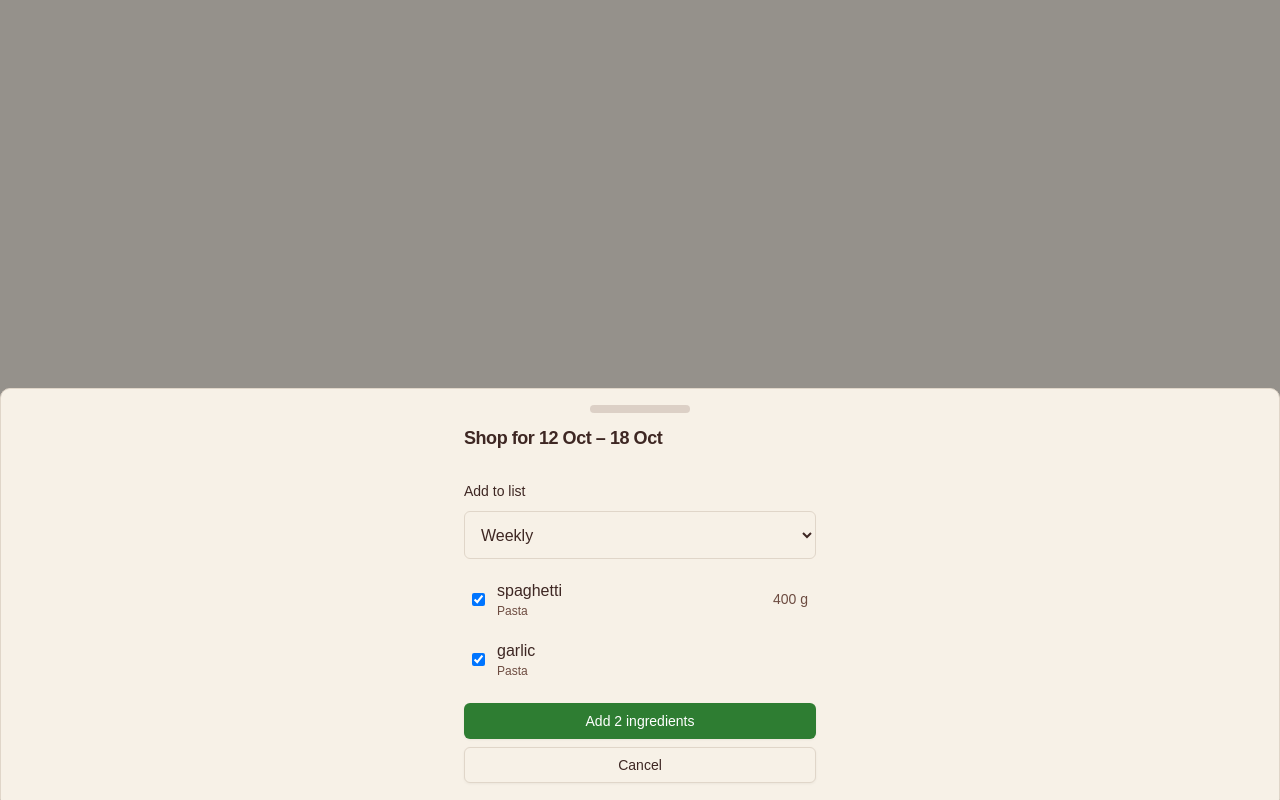
Test: ShoppingPreviewDrawer › keeps the drawer open and shows the failure
What coordinates should you click on to do the following:
click the button "Add 2 ingredients"
I would click on:
 (640, 721)
Its box is [464,703,816,739].
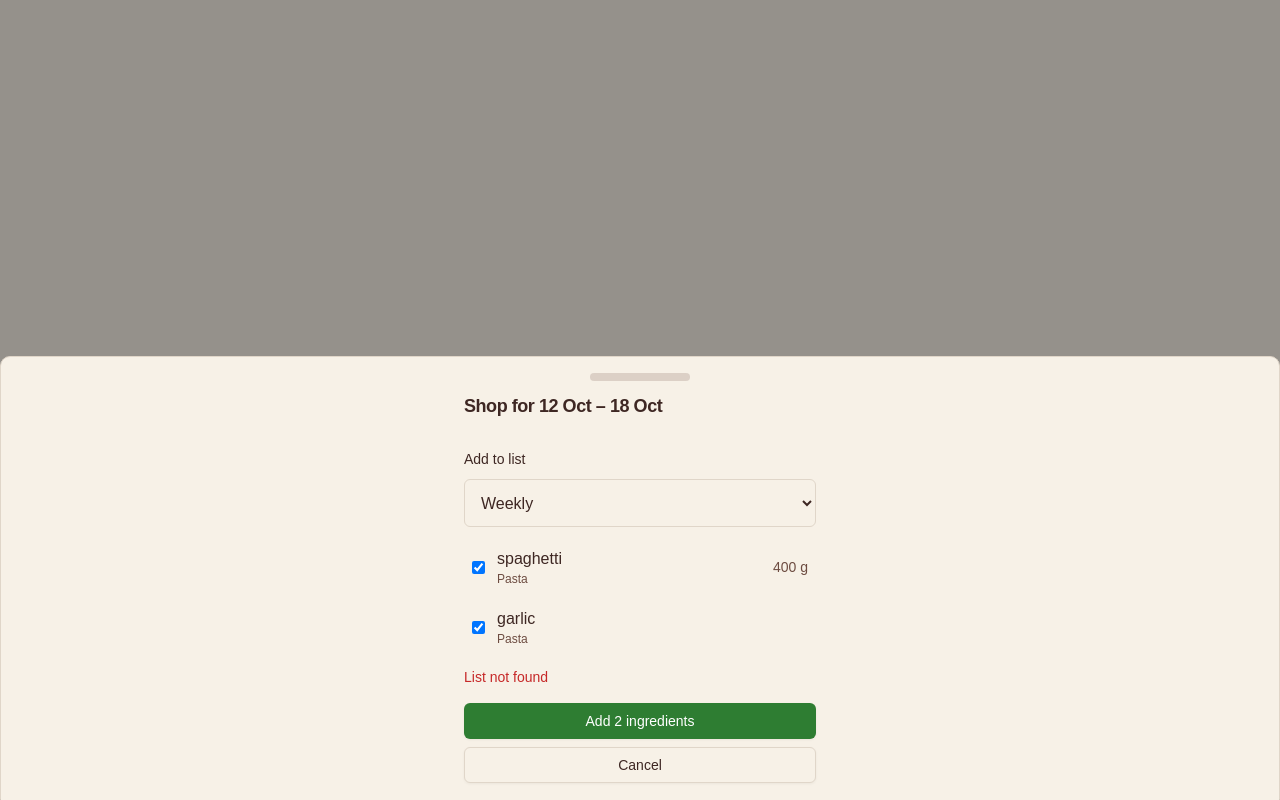
Expected: the message reads "List not found", [464,669,548,685]
